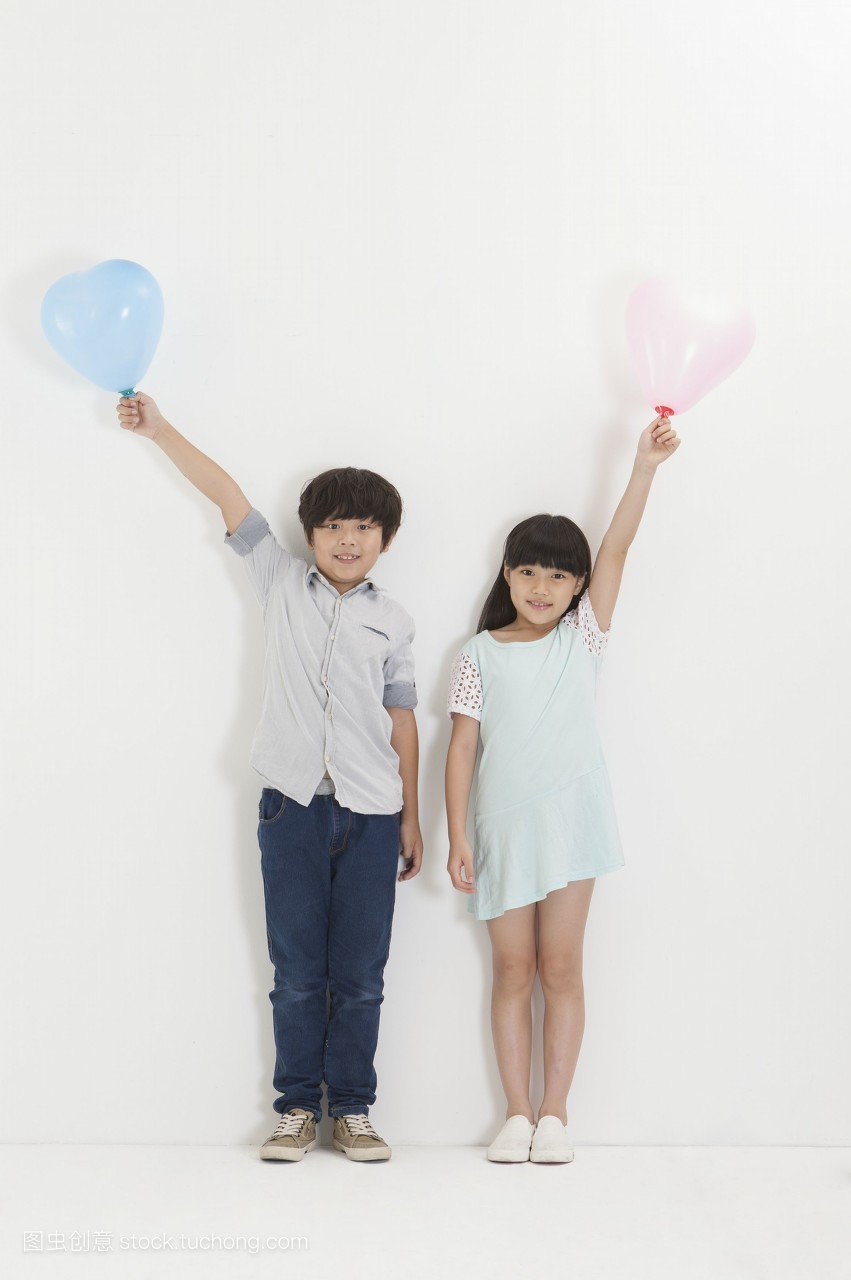handsup: (100, 378, 436, 1184), (424, 359, 728, 1186)
